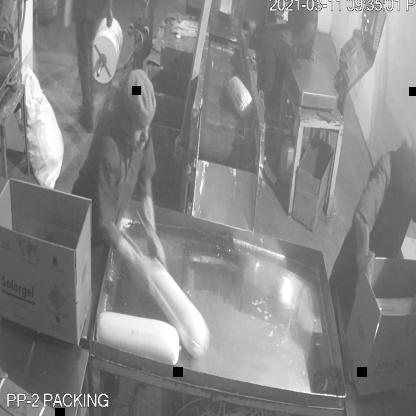glove: (404, 254, 416, 332)
no_glove: (278, 14, 322, 64), (103, 0, 116, 37)
